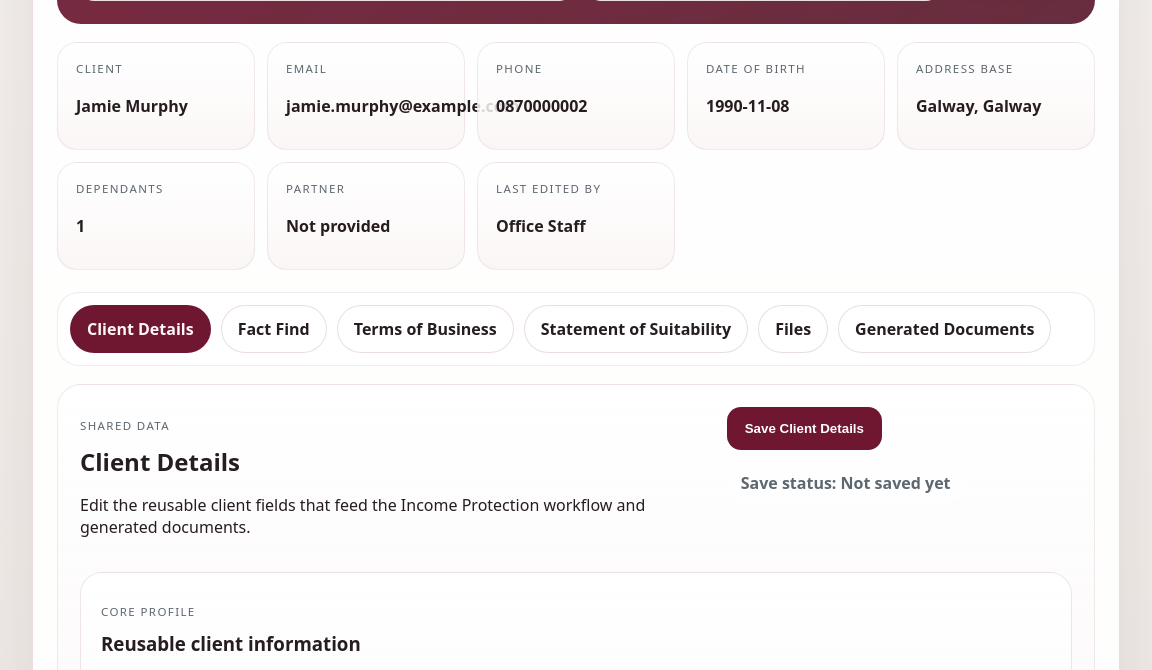
App routes › adds a Fact Find DOCX record to generated documents when generation succeeds
(page scrolled)
Step 1. Click the tab "Fact Find" → [274, 329], box [221,305,327,353]
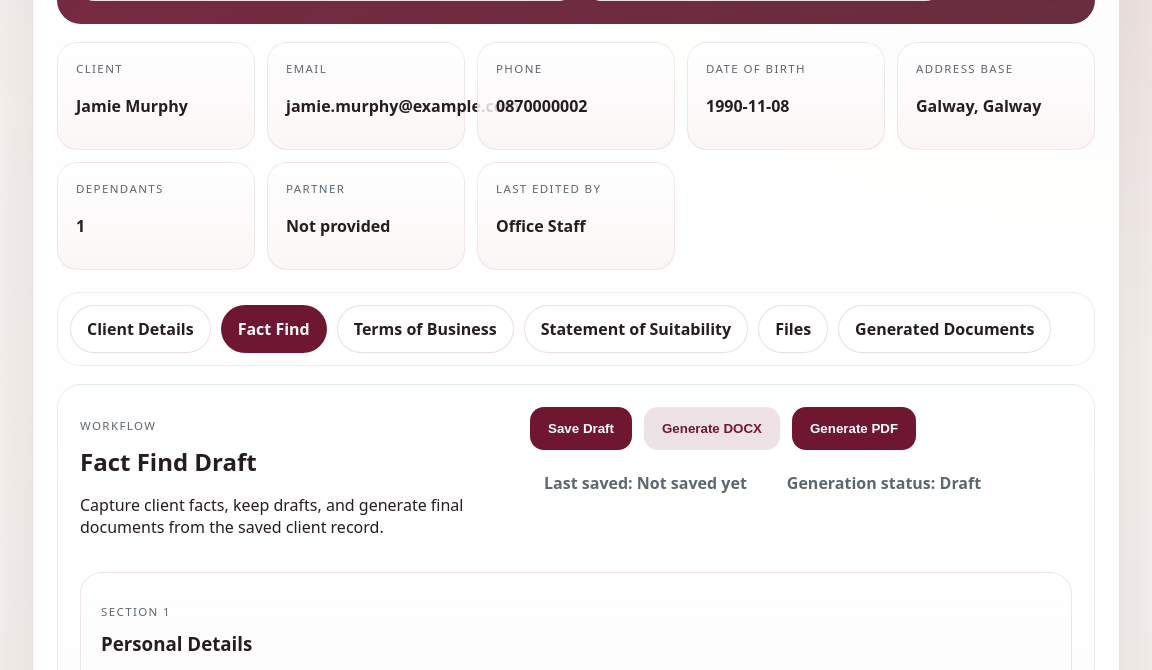
Step 2. Click the button "Generate DOCX" → [712, 428], box [644,407,780,450]
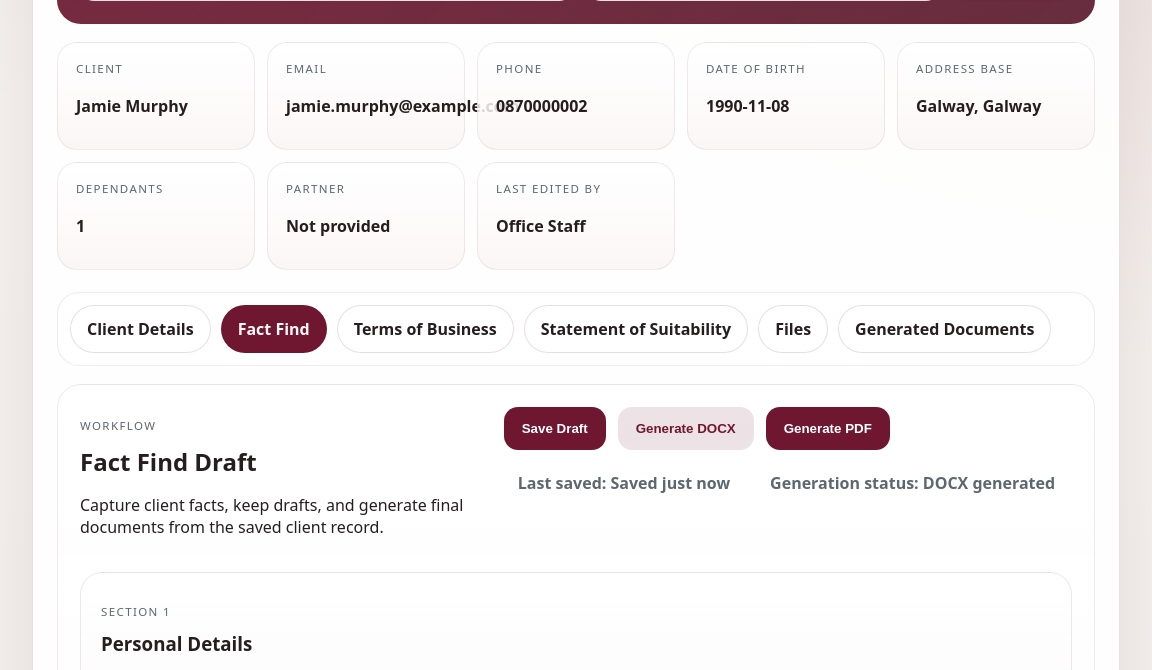
Result: the text "Generation status: DOCX generated" is shown at [756,462,1069,504]
Step 3. Click the tab "Generated Documents" → [945, 329], box [838,305,1052,353]
(page scrolled)
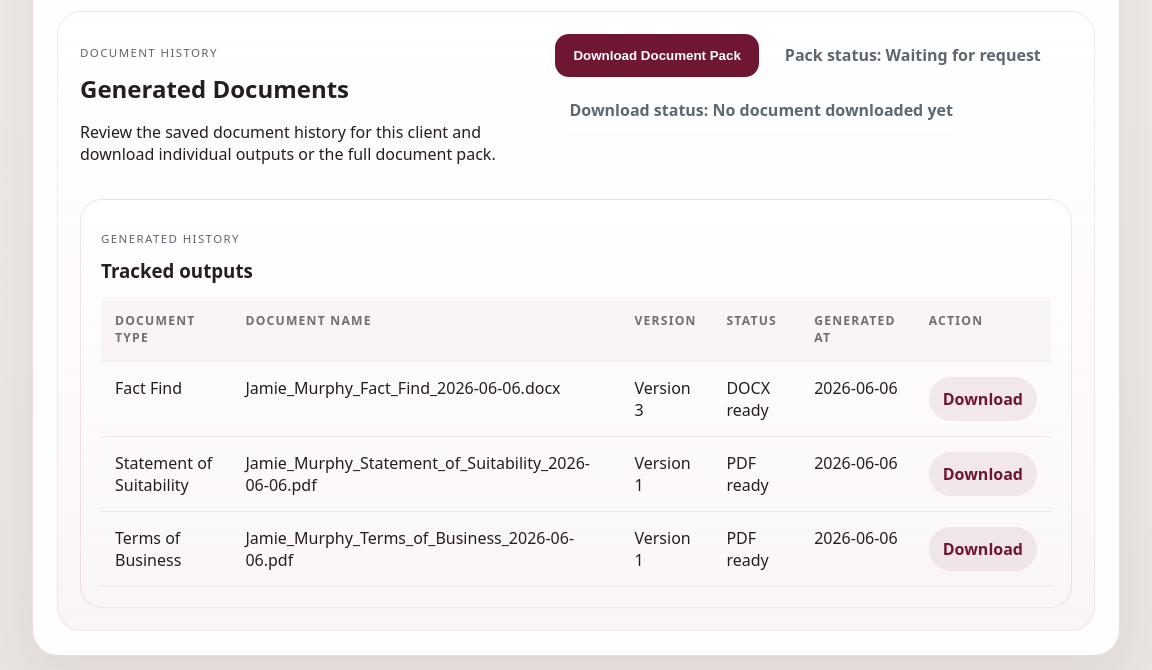
Result: the text "Jamie_Murphy_Fact_Find_2026-06-06.docx" is shown at [231,361,620,436]
Result: the text "DOCX ready" is shown at [712,361,800,436]
